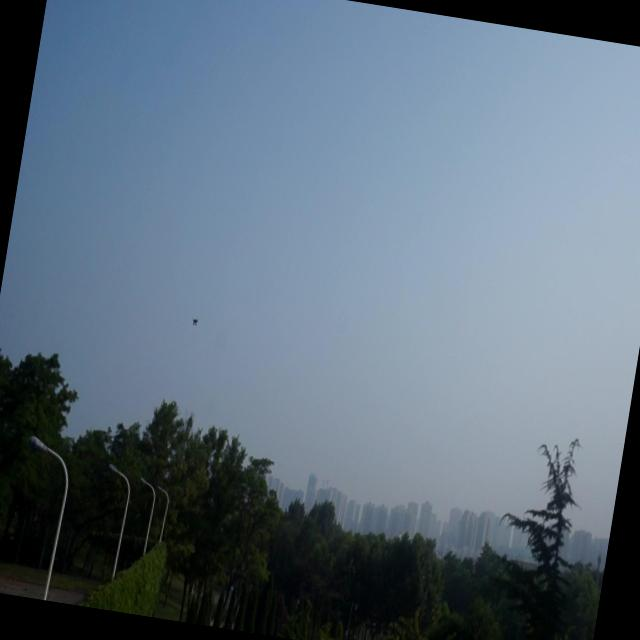drone: (188, 313, 204, 329)
